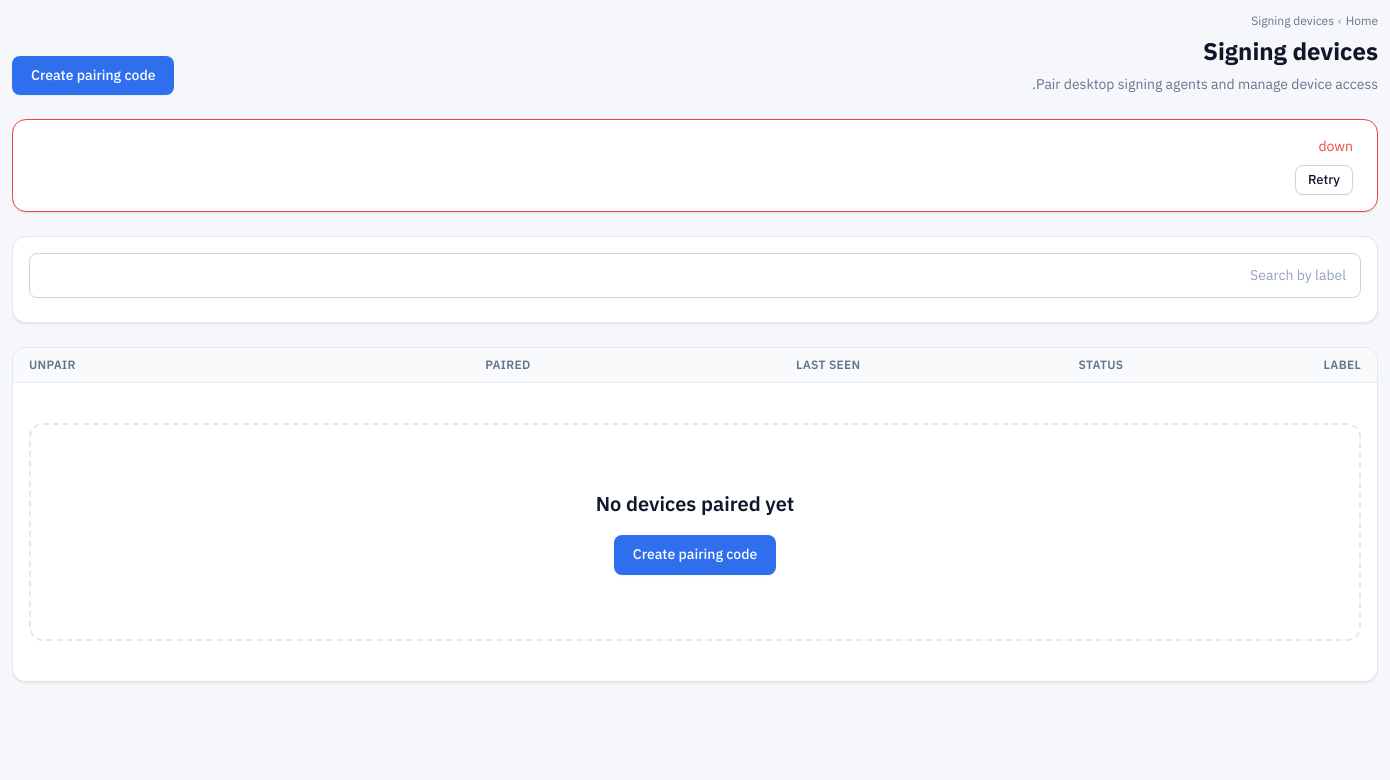
Test: devices page › retries a failed devices load
The width and height of the screenshot is (1390, 780).
Expected: the message shows "down", [1318,136,1353,157]
Click the button "Retry". click: (1324, 180)
box: [1295,165,1353,195]
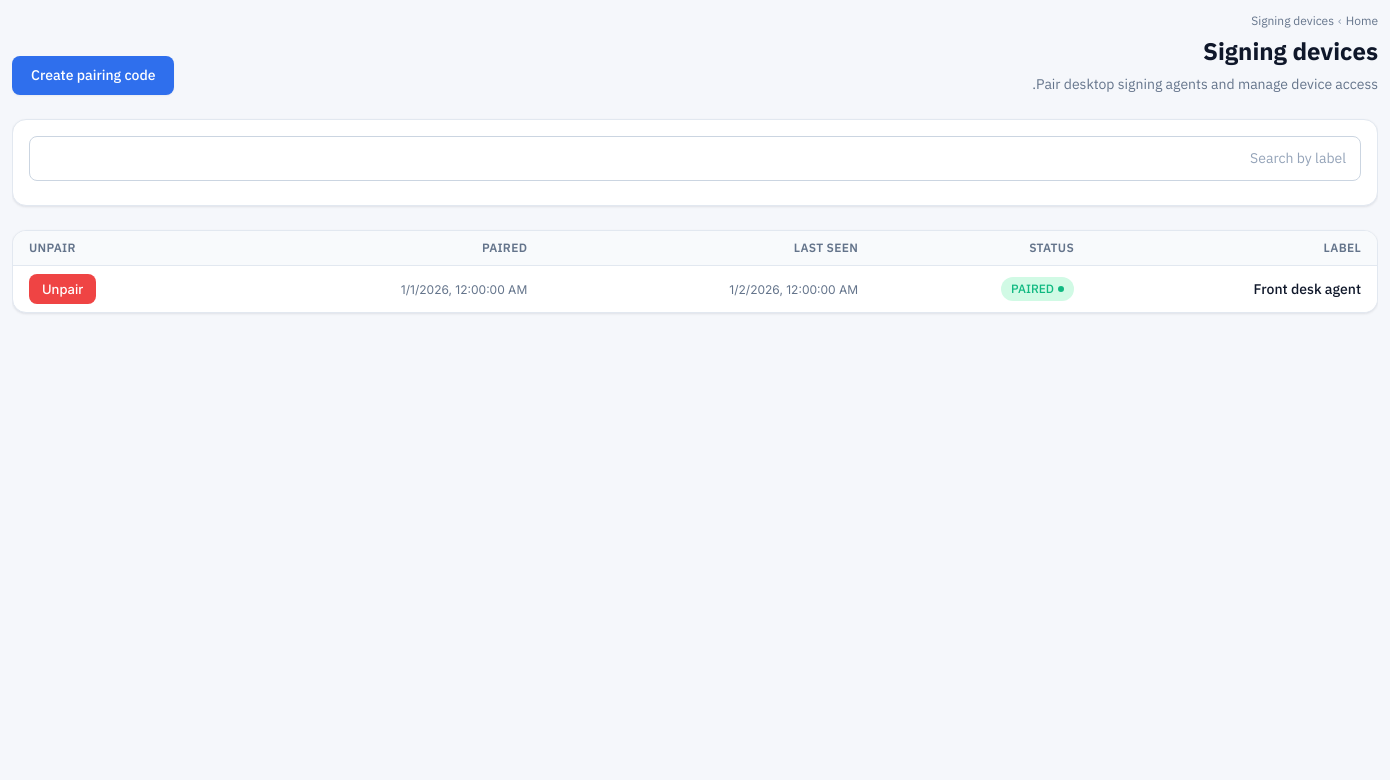
Result: the text "Front desk agent" is shown at [1254,279,1361,300]
